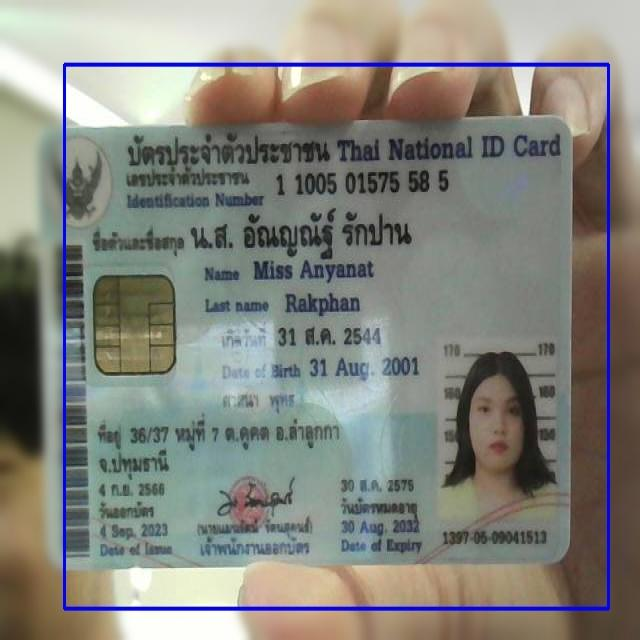Address_th: (91, 409, 342, 481)
Date_of_Birth: (305, 352, 422, 382)
Date_of_Expiry: (339, 514, 421, 540)
Date_of_Issue: (96, 522, 176, 542)
First_Name: (248, 254, 379, 286)
ID_Number: (273, 165, 462, 199)
Image: (437, 333, 561, 528)
Last_Name: (283, 287, 363, 321)
Thai_Name: (183, 207, 426, 263)
